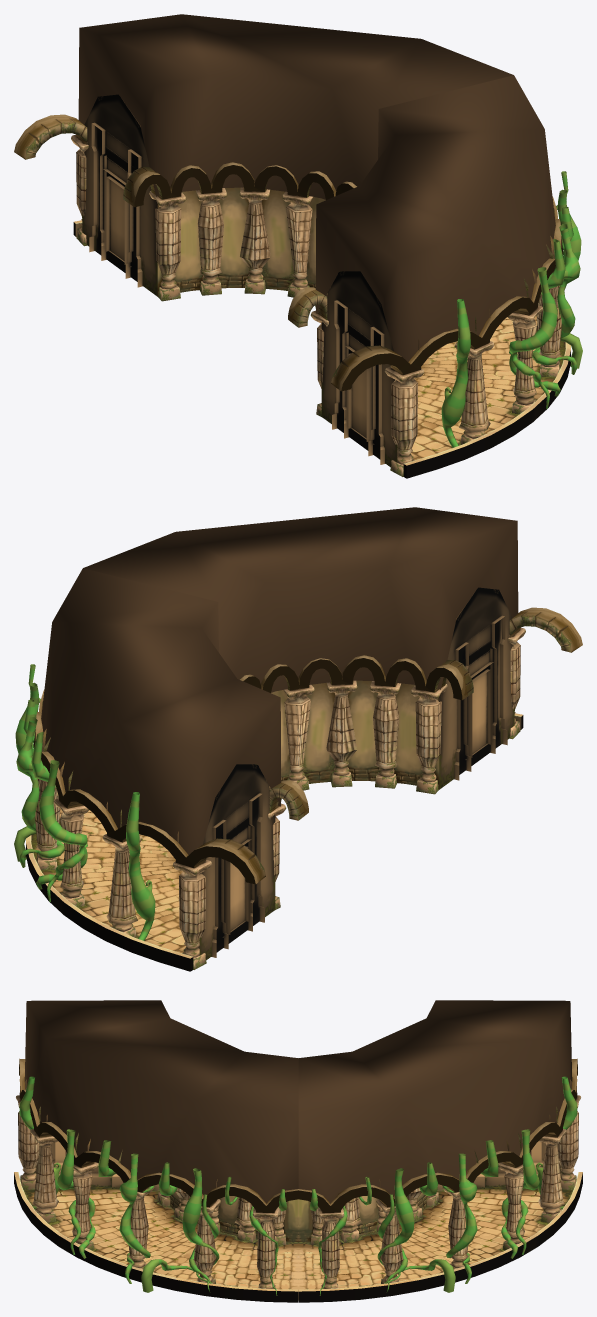
Rendered from HalfHall_Stage_140409_Fin.fbx.
3 renders of one model, top to bottom at view 1: azimuth 30°, elevation 25°; view 2: azimuth 150°, elevation 25°; view 3: azimuth 270°, elevation 25°, orthographic. The views are drawn at different scales.
Visible parts, largest first — view 1: HallDumy, HallDoor, hallWall, HallColumm, HallFloor, Hallcreepy; view 2: HallDumy, HallDoor, hallWall, HallColumm, HallFloor, Hallcreepy; view 3: HallDumy, HallFloor, HallColumm, Hallcreepy, hallWall, HallDoor.
Boxes of the visible parts, <box> form: HallDumy: <box>78,14,555,371</box>; HallDoor: <box>82,94,398,466</box>; hallWall: <box>14,114,563,391</box>; HallColumm: <box>71,135,563,476</box>; HallFloor: <box>73,220,570,478</box>; Hallcreepy: <box>441,171,582,447</box>; HallDumy: <box>41,507,518,864</box>; HallDoor: <box>198,587,514,959</box>; hallWall: <box>33,607,582,884</box>; HallColumm: <box>33,628,525,969</box>; HallFloor: <box>26,713,523,971</box>; Hallcreepy: <box>14,664,155,940</box>; HallDumy: <box>24,1000,572,1203</box>; HallFloor: <box>14,1172,582,1302</box>; HallColumm: <box>16,1095,580,1288</box>; Hallcreepy: <box>19,1076,577,1295</box>; hallWall: <box>19,1058,577,1241</box>; HallDoor: <box>35,1141,561,1188</box>.
Bounding box in the file's own units: 7699 × 4642 × 12698.
